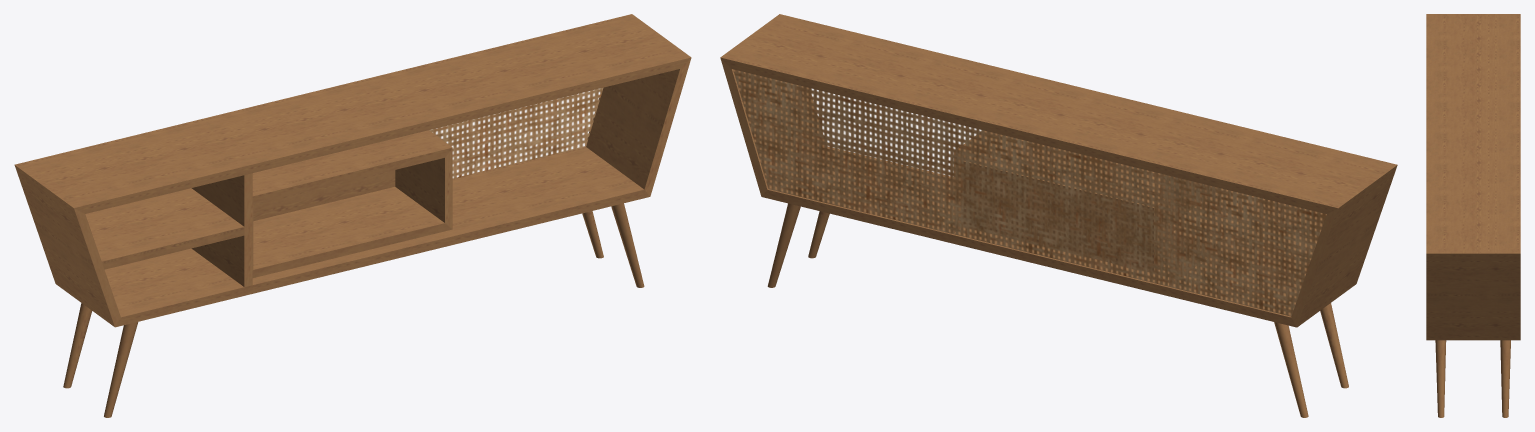
Rendered from designer_bookshelf__01d.glb.
3 renders of one model, left to right at view 1: azimuth 30°, elevation 25°; view 2: azimuth 150°, elevation 25°; view 3: azimuth 270°, elevation 25°, orthographic. The views are drawn at different scales.
Parts seen in each view (by area): view 1: body_low, box_low, back_low, shelf_low, divider_low, leg_low; view 2: body_low, back_low, box_low, leg_low, shelf_low, divider_low; view 3: body_low, leg_low.
Boxes of the visible parts, x1,y1,x2,y2 form: body_low: (14, 14, 691, 327); box_low: (252, 130, 452, 277); back_low: (429, 87, 603, 179); shelf_low: (85, 188, 244, 269); divider_low: (191, 173, 252, 287); leg_low: (63, 203, 644, 417); body_low: (720, 14, 1397, 327); back_low: (733, 69, 1326, 316); box_low: (953, 131, 1168, 270); leg_low: (767, 203, 1348, 417); shelf_low: (1173, 188, 1326, 266); divider_low: (1162, 174, 1217, 285); body_low: (1426, 14, 1520, 340); leg_low: (1435, 340, 1510, 417).
Bounding box in the file's own units: 2.34 × 0.8174 × 0.3906.
1 material, 1 textured.
